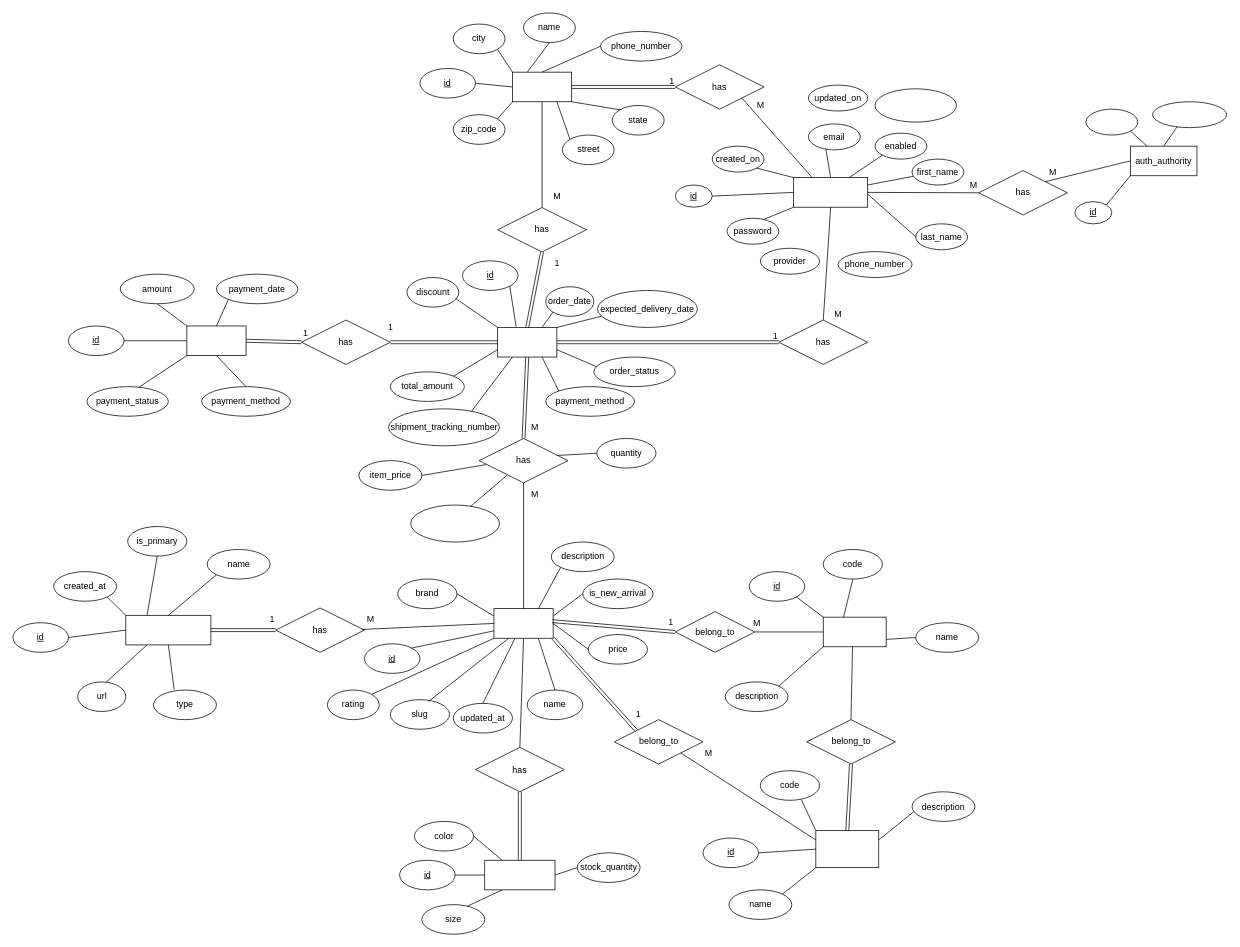
Image size: 1240x947. Some labels were removed from this diagram. The shapes that lost their labels are listed below. From the top down, each one's box as (x1, y1, x2, y2) in pixels, then its label:
(512, 71, 572, 102): addresses
(874, 88, 956, 122): verification_code
(1085, 108, 1138, 135): role_code
(1152, 101, 1227, 128): role_description
(793, 177, 868, 207): auth_user_detail
(186, 325, 246, 356): payment
(497, 327, 557, 357): orders
(410, 504, 500, 542): product_variant_id
(125, 615, 211, 645): product_resources
(493, 608, 553, 638): products
(823, 616, 886, 647): categories
(815, 830, 879, 868): category_type
(484, 860, 555, 890): product_variant
